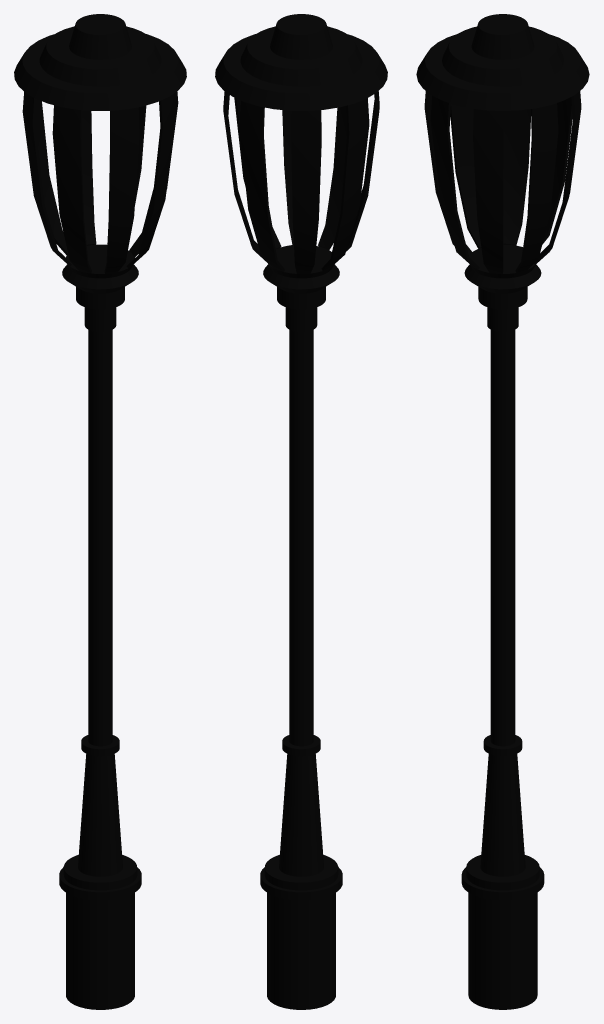
File: Lamppost.fbx
The picture shows the model from 3 angles, left to right: view 1: azimuth 30°, elevation 25°; view 2: azimuth 150°, elevation 25°; view 3: azimuth 270°, elevation 25°; orthographic projection.
Visible parts, largest first — view 1: Lamppost; view 2: Lamppost; view 3: Lamppost.
Boxes of the visible parts, bbox=[...] form: Lamppost: bbox=[14, 14, 186, 1009]; Lamppost: bbox=[215, 14, 387, 1009]; Lamppost: bbox=[416, 14, 589, 1009].
Size of the model in its own units: 38.83 by 240 by 38.83.
